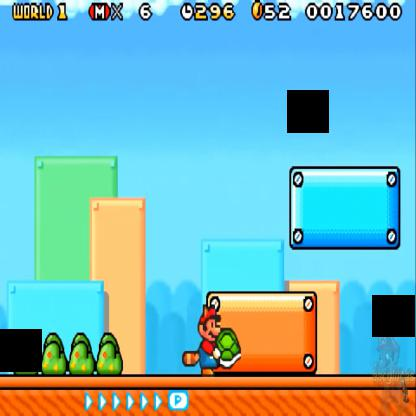Mario: (181, 301, 221, 376)
caparazon: (214, 326, 240, 366)
moneda: (252, 0, 263, 22)
